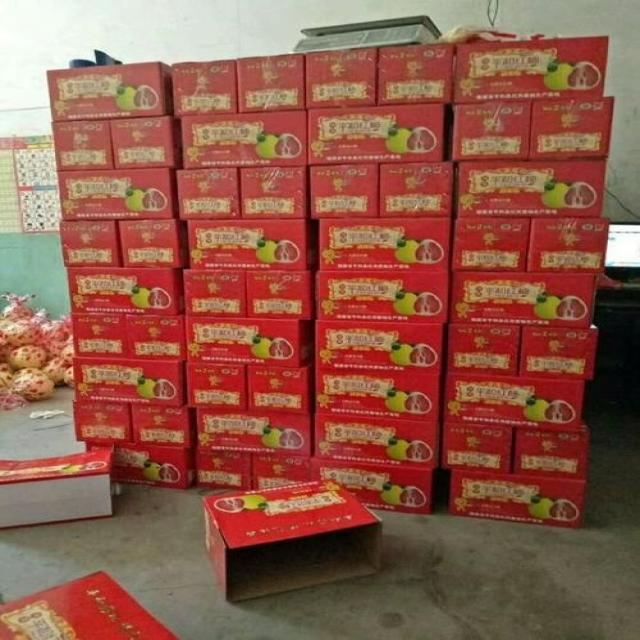box: (200, 474, 383, 605), (0, 570, 178, 639), (454, 38, 608, 101), (435, 369, 586, 432), (1, 448, 117, 528), (308, 103, 451, 163), (452, 463, 584, 528), (452, 159, 607, 214), (446, 270, 595, 327), (307, 453, 440, 512), (176, 109, 308, 167), (49, 62, 175, 122), (310, 217, 452, 270), (313, 365, 445, 422), (313, 269, 451, 322), (310, 317, 449, 369), (184, 217, 314, 269), (185, 314, 318, 364), (57, 167, 175, 223), (312, 413, 439, 463), (194, 405, 314, 456), (69, 314, 186, 361), (69, 267, 184, 314), (72, 356, 184, 404), (526, 97, 614, 157), (85, 440, 197, 487), (373, 43, 454, 104), (451, 99, 531, 158), (525, 217, 609, 273), (301, 49, 379, 108), (300, 162, 381, 216), (450, 217, 531, 271), (381, 162, 456, 218), (511, 428, 589, 479), (517, 326, 595, 376), (237, 166, 311, 218), (435, 421, 512, 470), (109, 114, 180, 167), (170, 59, 239, 113), (445, 322, 524, 369), (236, 54, 302, 110), (117, 217, 189, 268), (169, 165, 238, 216), (245, 363, 314, 412), (246, 269, 313, 317), (133, 401, 200, 449), (182, 268, 248, 316), (58, 220, 124, 265), (55, 118, 112, 169), (186, 360, 246, 408), (72, 400, 132, 442), (194, 448, 253, 486), (252, 453, 310, 488)
